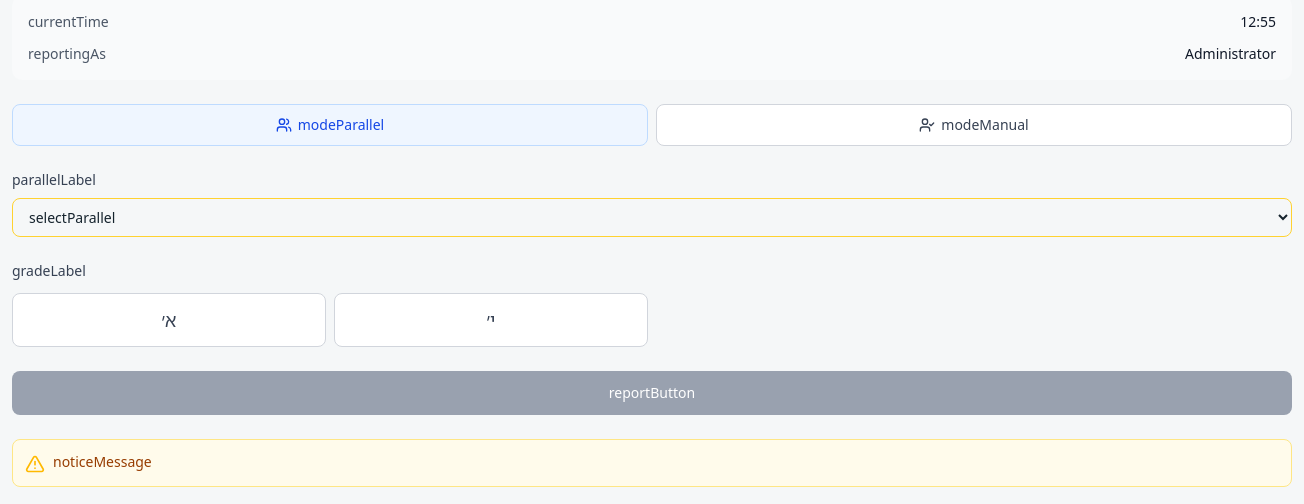
Test: ManagementReportForm › enables submit button when all required fields are selected for parallel
The image size is (1304, 504).
Check: the button "reportButton" is disabled, box x1=12 y1=371 x2=1292 y2=415
Select parallel
Select "parallelOption" in the dropdown at (652, 218), box x1=12 y1=198 x2=1292 y2=237
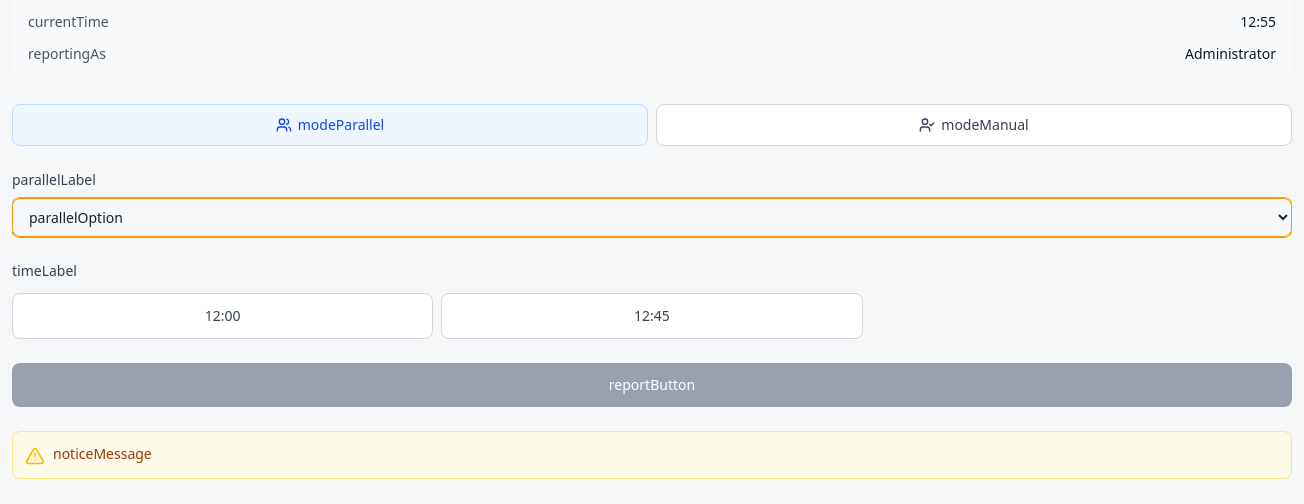
Check: the button "reportButton" is disabled, box x1=12 y1=363 x2=1292 y2=407
Select time
Click the button with test id "select-time" at (223, 316), box x1=12 y1=293 x2=433 y2=339
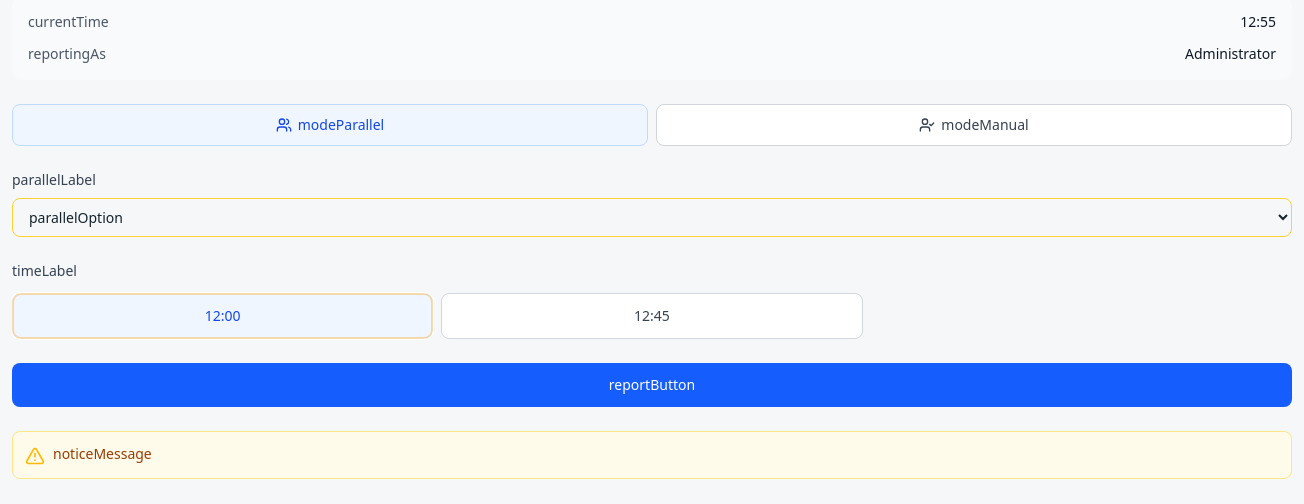
Check: the button "reportButton" is enabled, box x1=12 y1=363 x2=1292 y2=407
